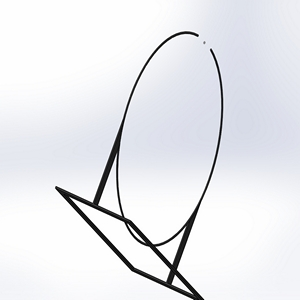circle: (52, 28, 225, 300)
